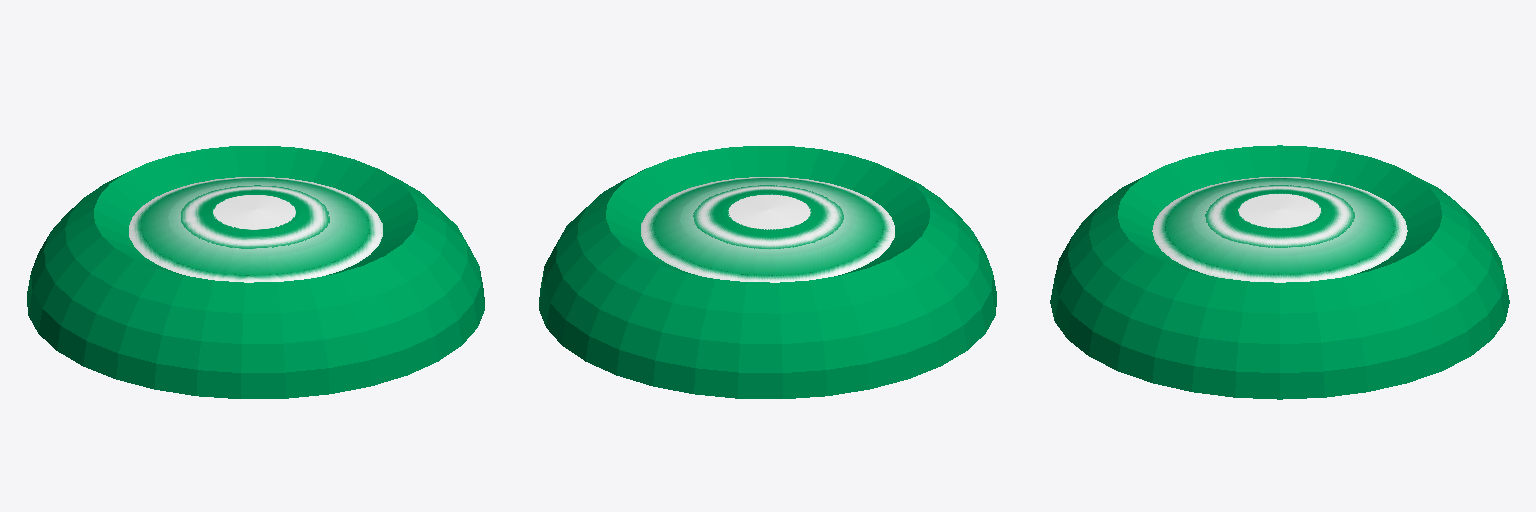
The picture shows the model from 3 angles: view 1: azimuth 30°, elevation 25°; view 2: azimuth 150°, elevation 25°; view 3: azimuth 270°, elevation 25°; orthographic projection.
Visible parts, largest first — view 1: Sphere; view 2: Sphere; view 3: Sphere.
Boxes of the visible parts, <box> form: Sphere: <box>27,146,484,398</box>; Sphere: <box>539,146,996,398</box>; Sphere: <box>1050,145,1509,399</box>.
Bounding box in the file's own units: 0.5 × 0.1115 × 0.5.
1 materials, 1 textured.